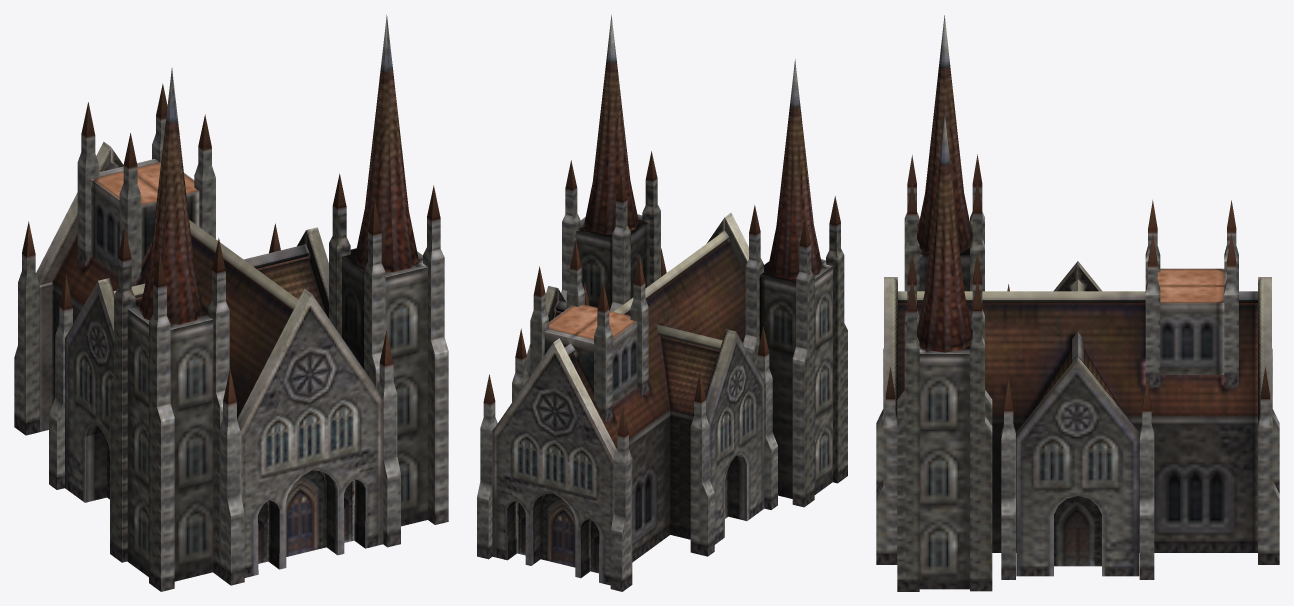
Rendered from Temple_001.FBX.
The picture shows the model from 3 angles, left to right: view 1: azimuth 30°, elevation 25°; view 2: azimuth 150°, elevation 25°; view 3: azimuth 270°, elevation 25°; orthographic projection. The views are drawn at different scales.
Parts seen in each view (by area): view 1: Temple_001; view 2: Temple_001; view 3: Temple_001.
Part boxes in pixels (bbox=[...]): Temple_001: bbox=[14, 15, 448, 591]; Temple_001: bbox=[477, 15, 847, 591]; Temple_001: bbox=[876, 15, 1279, 591].
Size of the model in its own units: 1103 by 1825 by 1438.
